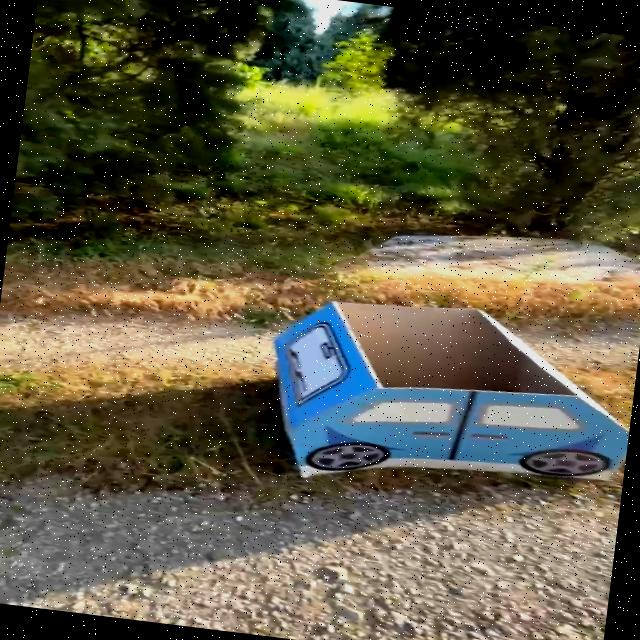blue_car: (187, 266, 640, 534)
